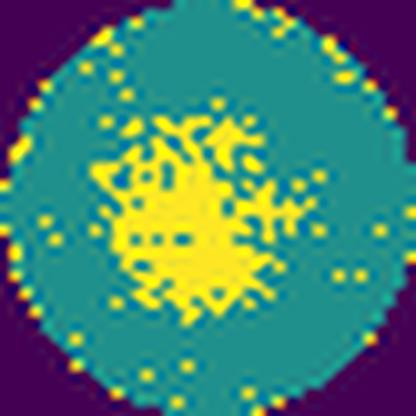Center: (88, 113, 306, 328)
